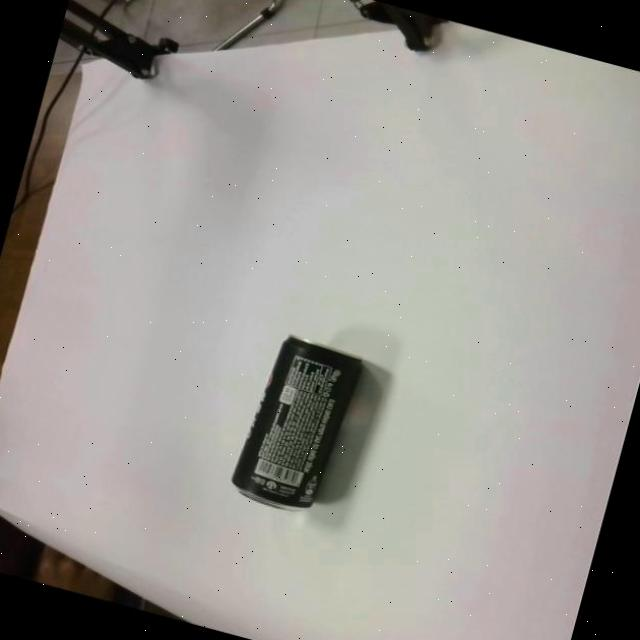debris: (225, 328, 397, 528)
